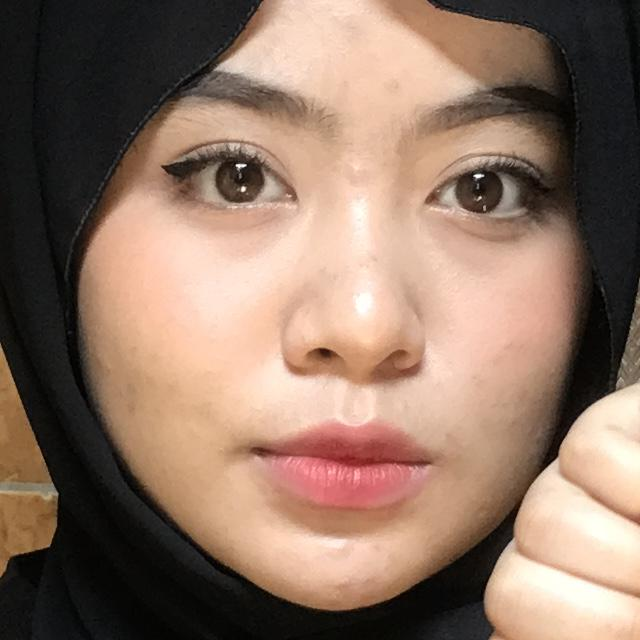sedih: (320, 276, 640, 640)
